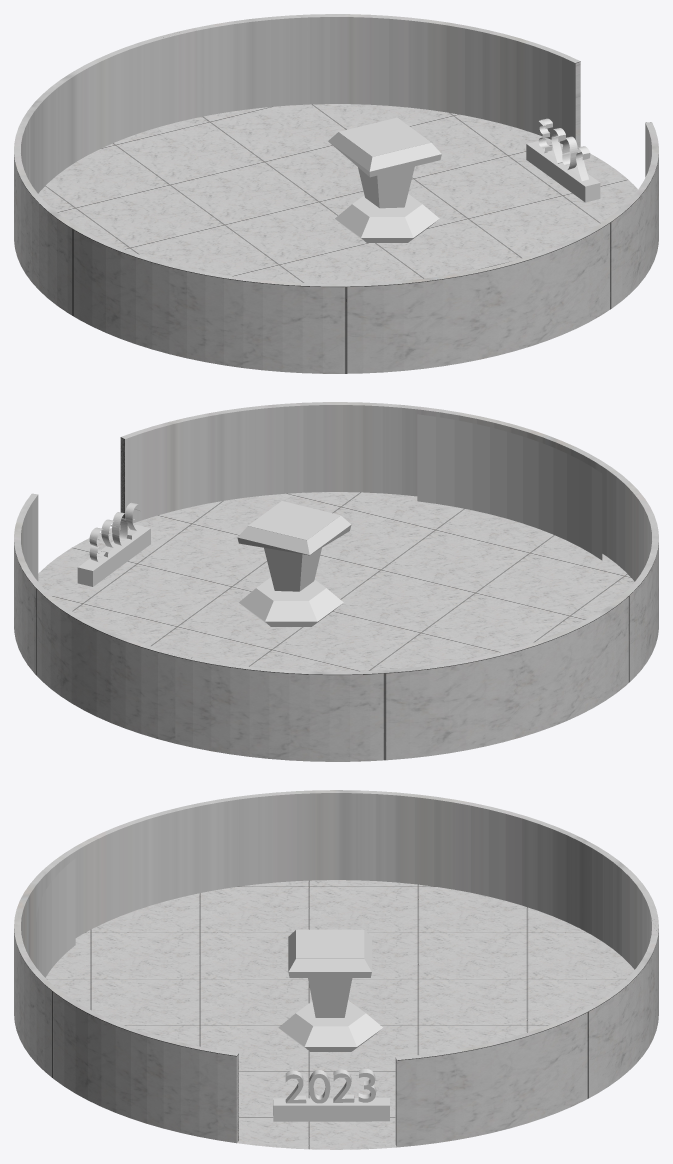
3 views of the same model, one above another, from view 1: azimuth 30°, elevation 25°; view 2: azimuth 150°, elevation 25°; view 3: azimuth 270°, elevation 25° (orthographic).
Visible parts, largest first — view 1: 围栏, 地板, 台柱, 底座, 2023底座, 2023; view 2: 围栏, 地板, 屏幕1, 台柱, 底座, 2023底座, 2023; view 3: 围栏, 地板, 台柱, 屏幕1, 底座, 2023底座, 2023.
Boxes of the visible parts, bbox=[...] form: 围栏: bbox=[14, 14, 658, 373]; 地板: bbox=[38, 104, 637, 283]; 台柱: bbox=[328, 117, 441, 208]; 底座: bbox=[335, 194, 439, 242]; 2023底座: bbox=[526, 141, 600, 202]; 2023: bbox=[538, 118, 590, 181]; 围栏: bbox=[14, 402, 658, 761]; 地板: bbox=[38, 492, 634, 671]; 屏幕1: bbox=[417, 414, 602, 560]; 台柱: bbox=[237, 501, 351, 591]; 底座: bbox=[239, 577, 343, 626]; 2023底座: bbox=[77, 524, 150, 586]; 2023: bbox=[89, 502, 140, 561]; 围栏: bbox=[14, 790, 658, 1147]; 地板: bbox=[45, 880, 634, 1149]; 台柱: bbox=[288, 929, 371, 1017]; 屏幕1: bbox=[36, 858, 75, 977]; 底座: bbox=[278, 1000, 382, 1051]; 2023底座: bbox=[273, 1098, 389, 1121]; 2023: bbox=[285, 1069, 376, 1103].
Size of the model in its own units: 73.31 by 12.09 by 73.31.
Materials: 2 (2 with a texture image).
